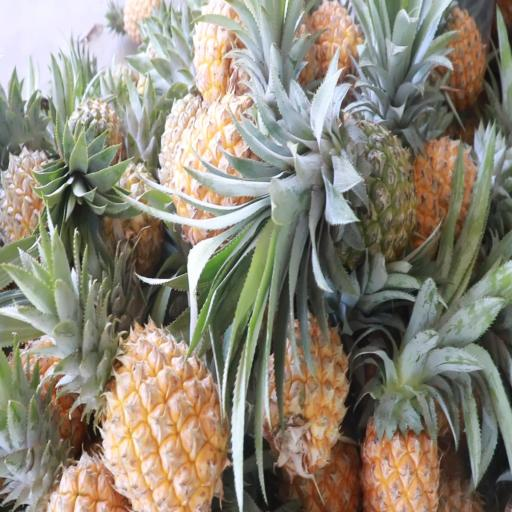Pineapple - v8 v1: (78, 297, 230, 512), (170, 85, 312, 244), (358, 295, 447, 512), (266, 302, 352, 476)
